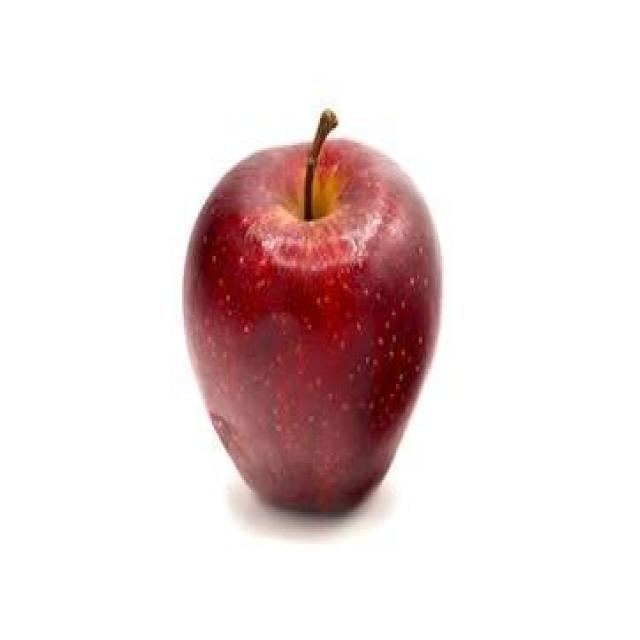apple: (185, 110, 441, 519)
